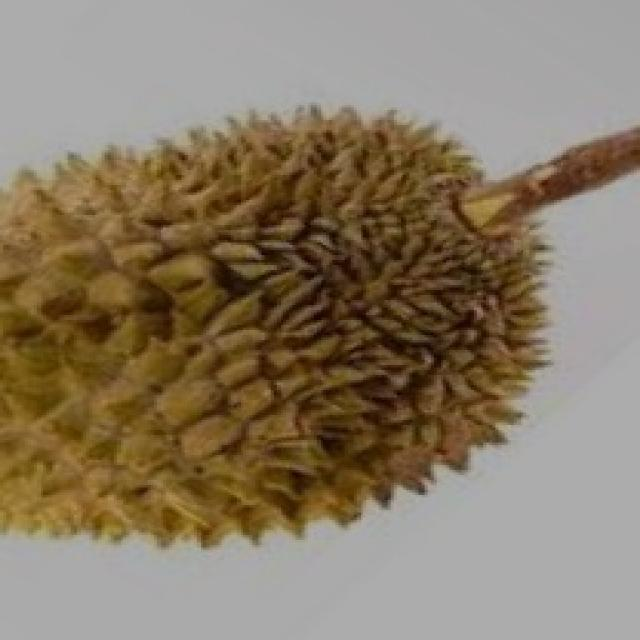fruit: (209, 187, 622, 595), (0, 240, 385, 618)
